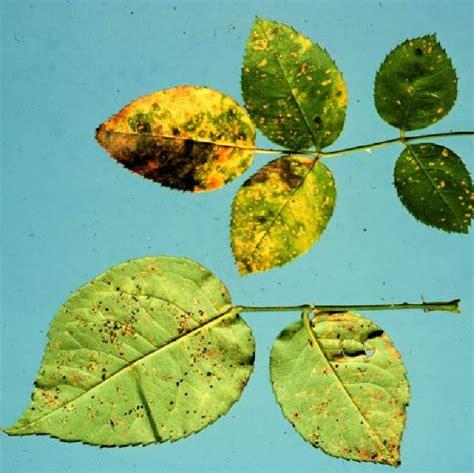black-spot: (169, 341, 219, 405)
